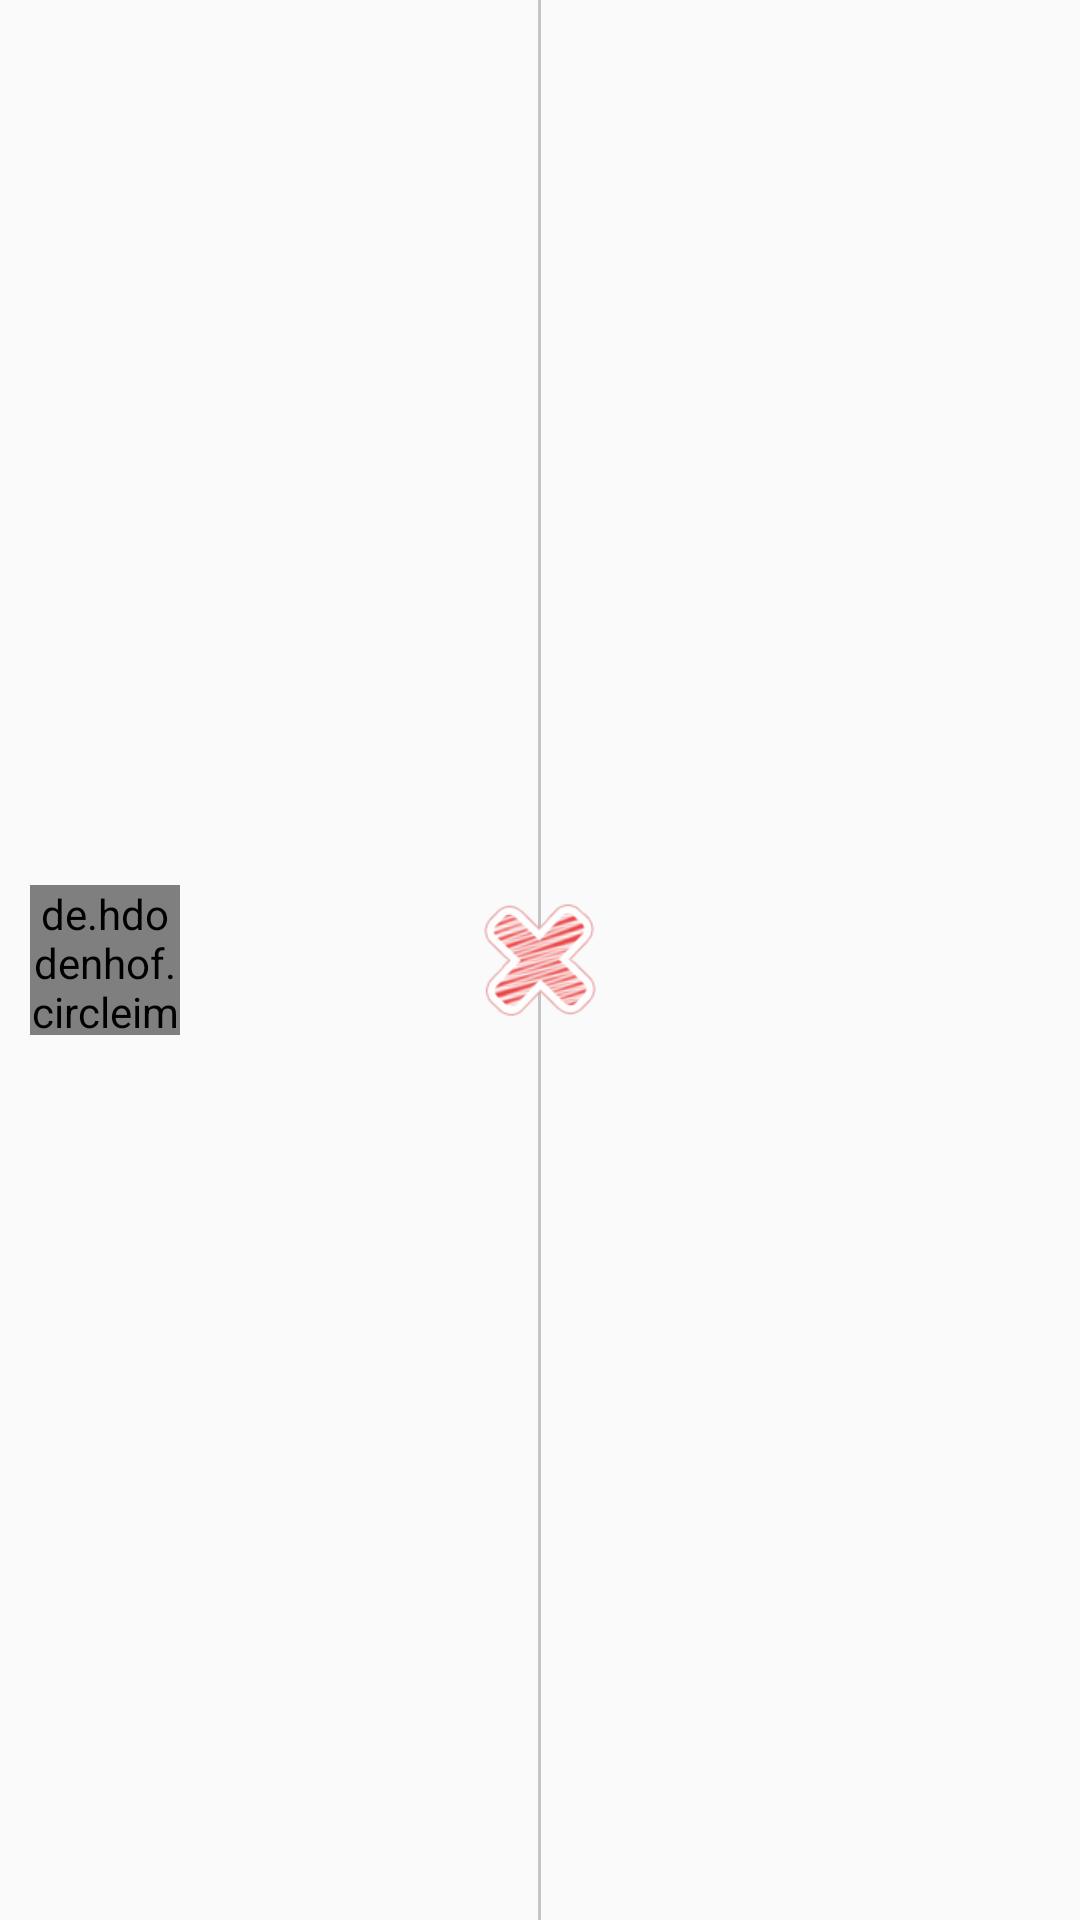

Named icons in this screenshot (1080 x 1920) and their bounding boxes, (x1, y1, x2, y2):
item delete: (493, 914, 587, 1006)
